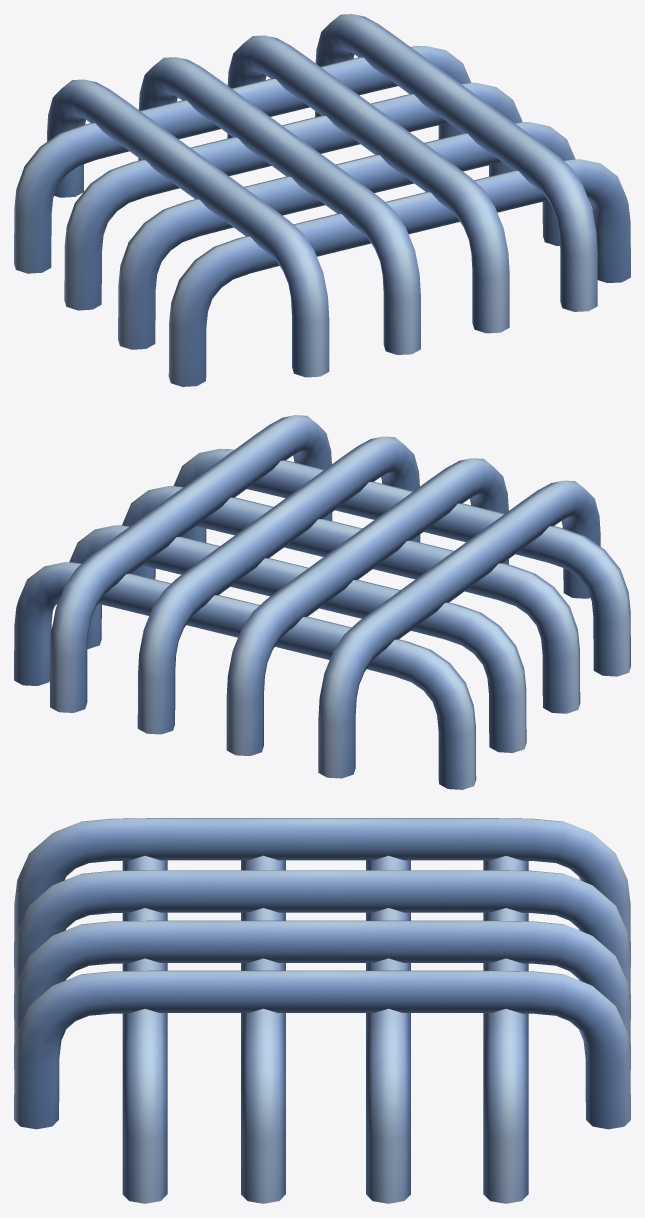
Rendered from Lock_Squares_2x2.fbx.
3 renders of one model, top to bottom at view 1: azimuth 30°, elevation 25°; view 2: azimuth 150°, elevation 25°; view 3: azimuth 270°, elevation 25°, orthographic. The views are drawn at different scales.
Visible parts, largest first — view 1: Lock_Squares_2x2; view 2: Lock_Squares_2x2; view 3: Lock_Squares_2x2.
Part boxes in pixels (left/top/right/bottom): Lock_Squares_2x2: left=14, top=14, right=630, bottom=386; Lock_Squares_2x2: left=14, top=415, right=630, bottom=789; Lock_Squares_2x2: left=14, top=818, right=630, bottom=1203.
Bounding box in the file's own units: 2.33 × 0.7385 × 2.33.
